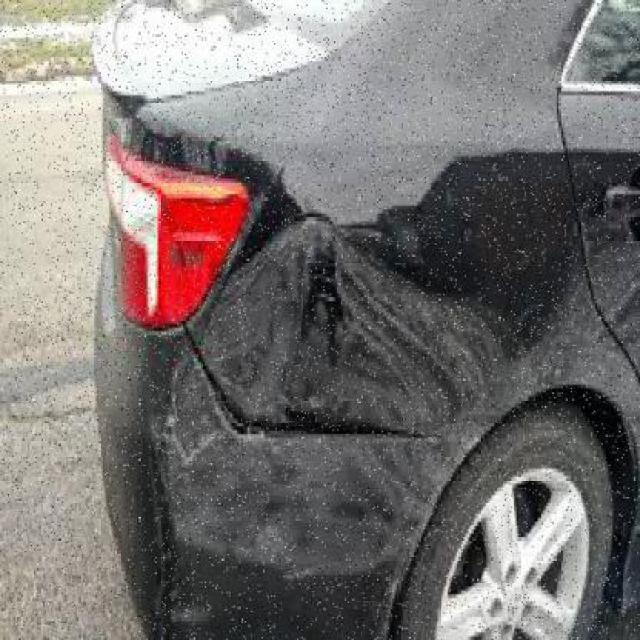quaterpanel-dent: (231, 96, 602, 496)
rear-bumper-dent: (48, 420, 492, 637)
